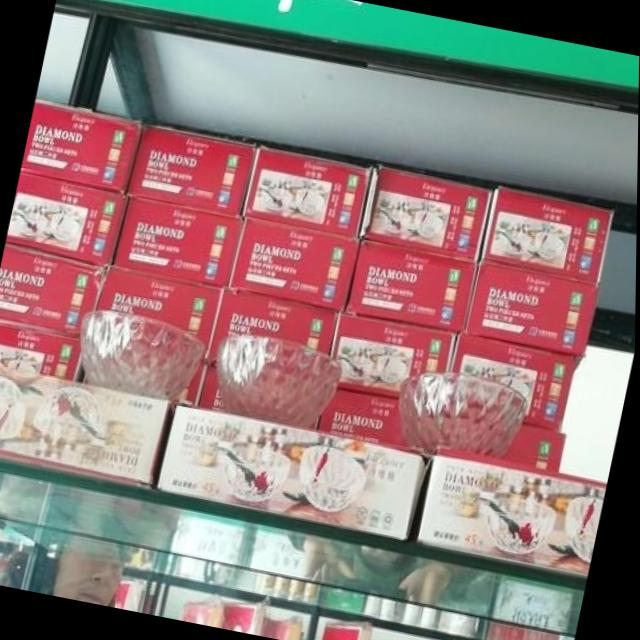box: (157, 405, 428, 539), (419, 457, 609, 581), (0, 367, 172, 489), (465, 262, 601, 372), (361, 163, 496, 262), (448, 330, 577, 431), (99, 264, 228, 363), (346, 239, 481, 333), (482, 187, 615, 279), (6, 171, 129, 268), (242, 147, 373, 238), (231, 219, 360, 311), (21, 98, 144, 194), (115, 196, 242, 288), (128, 125, 256, 216), (333, 314, 454, 398), (211, 288, 342, 365), (0, 243, 110, 334), (319, 387, 434, 457), (0, 319, 82, 384), (499, 428, 566, 473), (173, 363, 208, 404), (200, 366, 225, 413)
